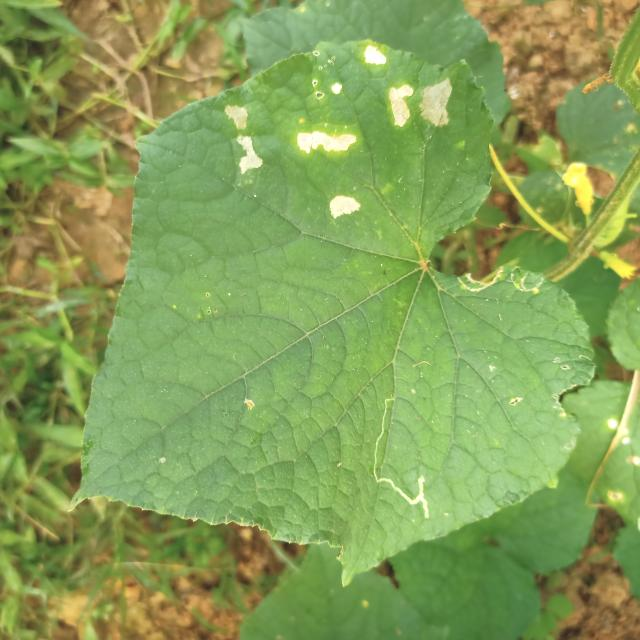disease_cucumber: (292, 41, 456, 161), (221, 98, 266, 178), (326, 186, 365, 225)
